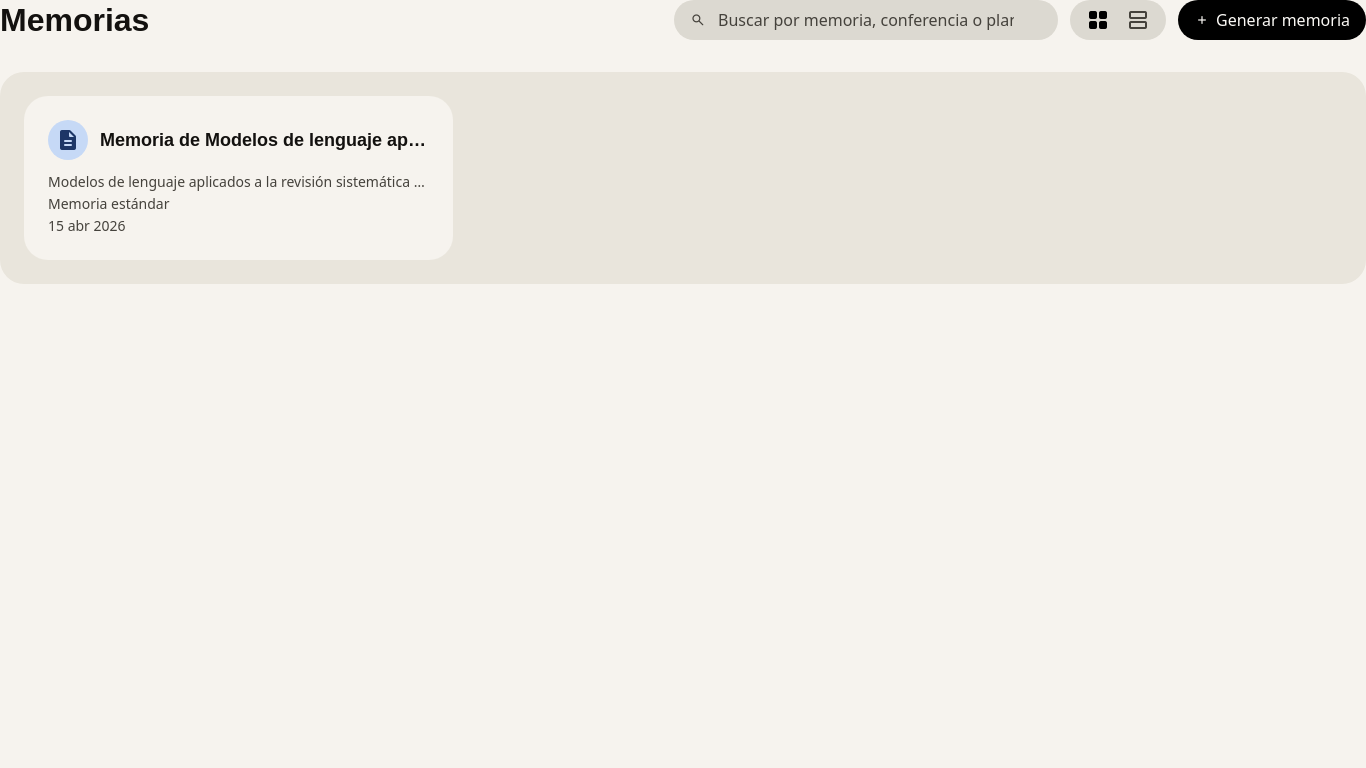
Test case: PantallaMemorias › «Generar memoria» abre el panel
This screenshot has width=1366, height=768.
Expected: the list named "Memorias" is shown, [24,96,453,260]
Click the button "Generar memoria". click: (1272, 20)
box: [1178,0,1365,40]
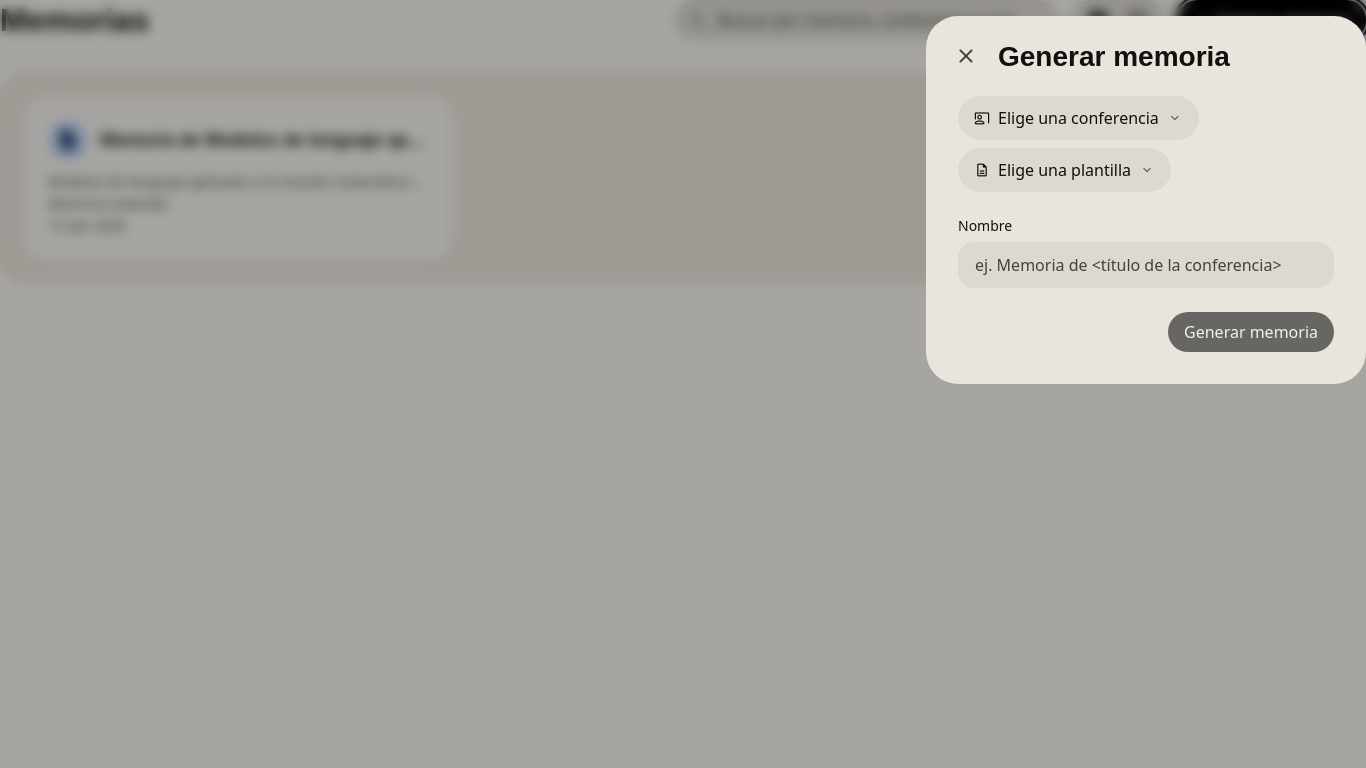
Expected: the dialog "Generar memoria" is shown, [926,16,1365,384]
